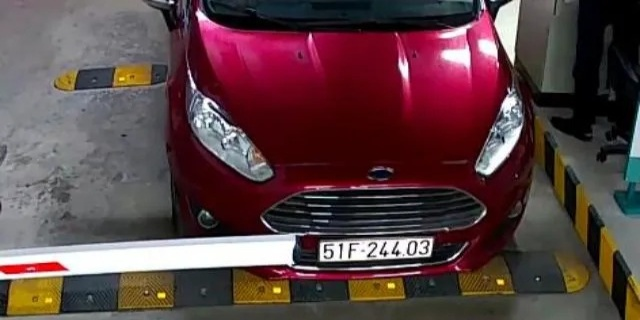bien_so: (319, 240, 433, 260)
